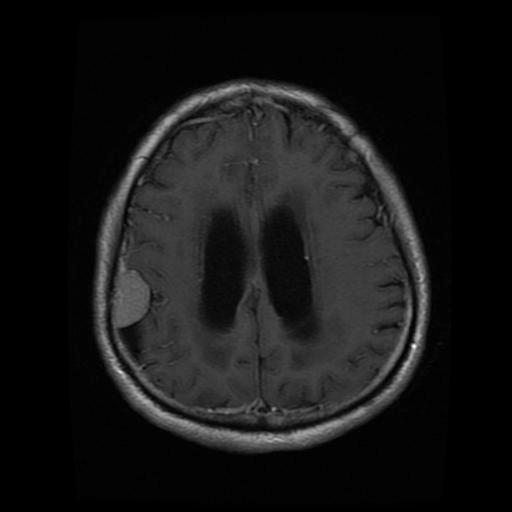Tumour-Meningioma: (103, 233, 153, 342)
